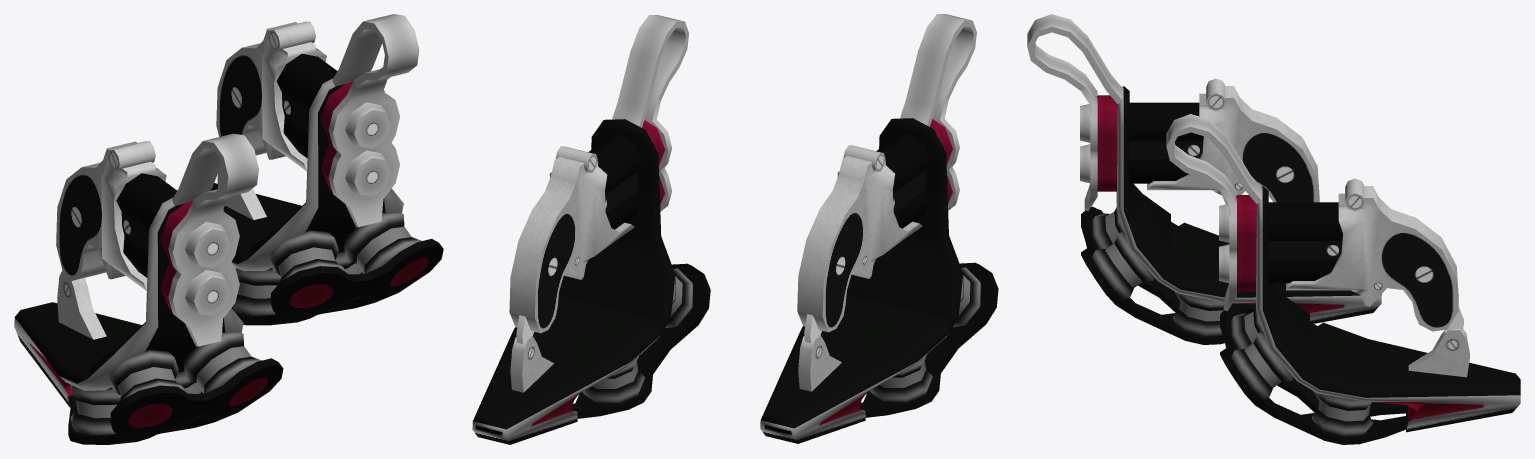
The picture shows the model from 3 angles, left to right: view 1: azimuth 30°, elevation 25°; view 2: azimuth 150°, elevation 25°; view 3: azimuth 270°, elevation 25°; orthographic projection. The views are drawn at different scales.
Parts seen in each view (by area): view 1: pCube1__M_Stepper_Cstm01.001, pCube1__M_Stepper_Cstm01; view 2: pCube1__M_Stepper_Cstm01.001, pCube1__M_Stepper_Cstm01; view 3: pCube1__M_Stepper_Cstm01, pCube1__M_Stepper_Cstm01.001.
Boxes of the visible parts, box(x1,y1,x2,y2) form: pCube1__M_Stepper_Cstm01.001: box(14, 133, 283, 444); pCube1__M_Stepper_Cstm01: box(210, 14, 443, 325); pCube1__M_Stepper_Cstm01.001: box(760, 14, 998, 443); pCube1__M_Stepper_Cstm01: box(472, 15, 710, 444); pCube1__M_Stepper_Cstm01: box(1166, 114, 1520, 444); pCube1__M_Stepper_Cstm01.001: box(1027, 14, 1381, 344).
Bounding box in the file's own units: 0.6922 × 0.5733 × 0.8526.
Materials: 2 (2 with a texture image).
